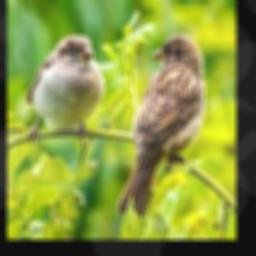Sparrow: (117, 33, 205, 217), (25, 35, 105, 145)
